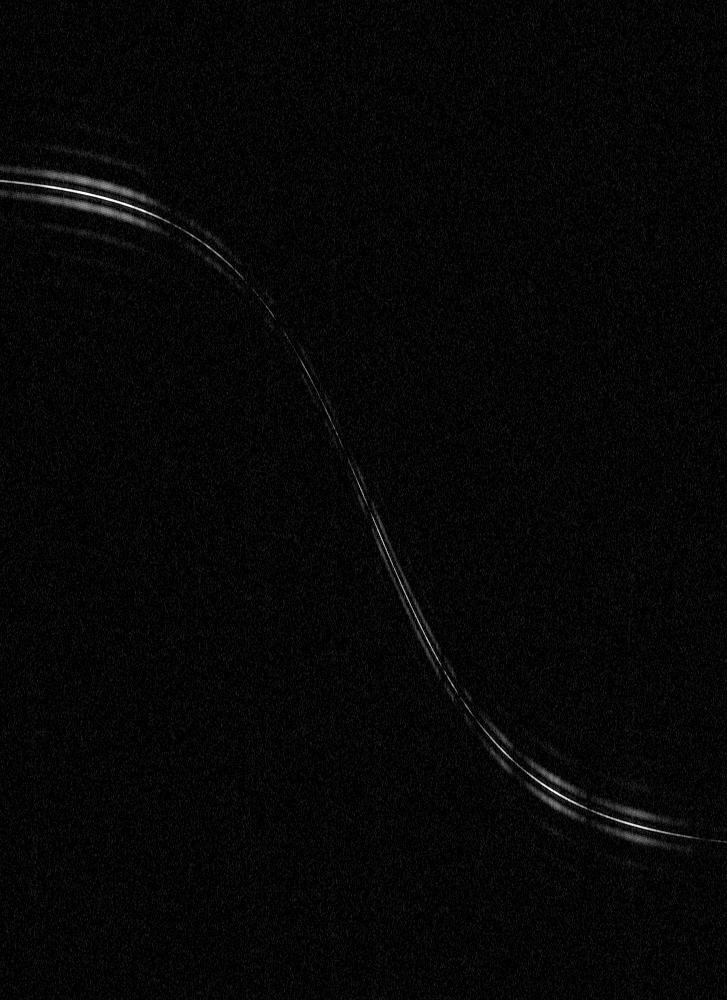signal: (0, 0, 726, 999)
